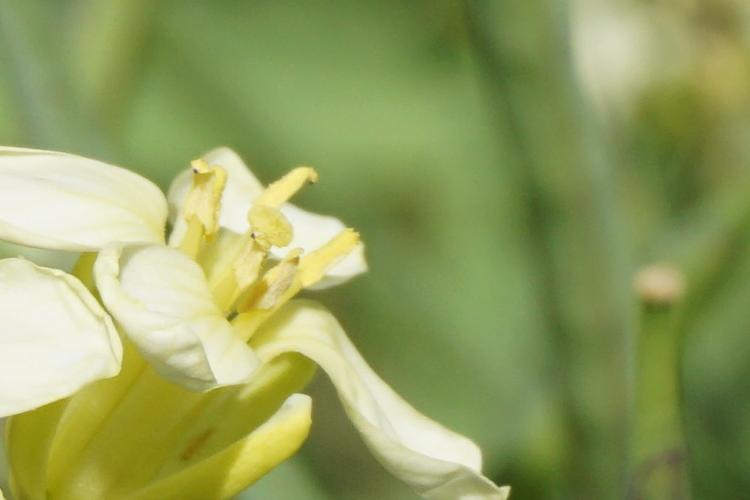white: (9, 134, 490, 480)
